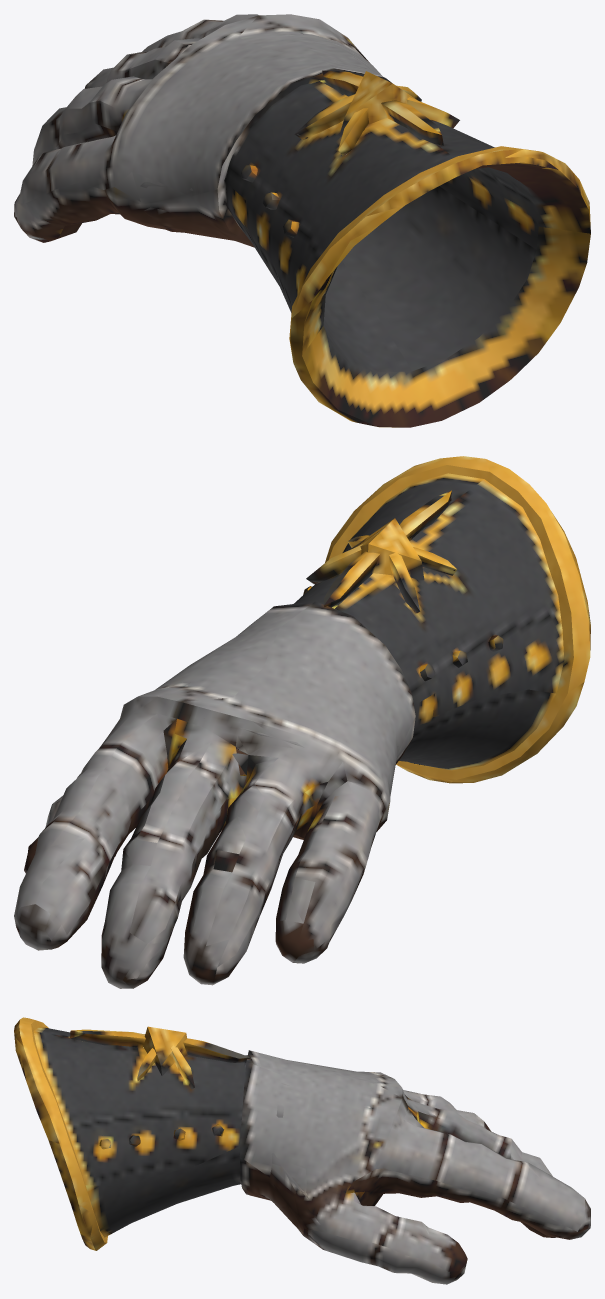
Rendered from item_7item111.glb.
3 renders of one model, top to bottom at view 1: azimuth 30°, elevation 25°; view 2: azimuth 150°, elevation 25°; view 3: azimuth 270°, elevation 25°, orthographic. The views are drawn at different scales.
Visible parts, largest first — view 1: equipment_7item111; view 2: equipment_7item111; view 3: equipment_7item111.
Part boxes in pixels (x1=…): equipment_7item111: x1=14, y1=14, x2=590, y2=427; equipment_7item111: x1=14, y1=456, x2=590, y2=988; equipment_7item111: x1=14, y1=1017, x2=590, y2=1284.
Bounding box in the file's own units: 0.52 × 0.4429 × 1.07.
Materials: 1 (1 with a texture image).
